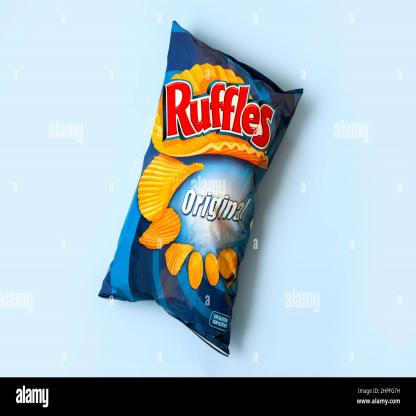potatochip: (98, 16, 306, 360)
